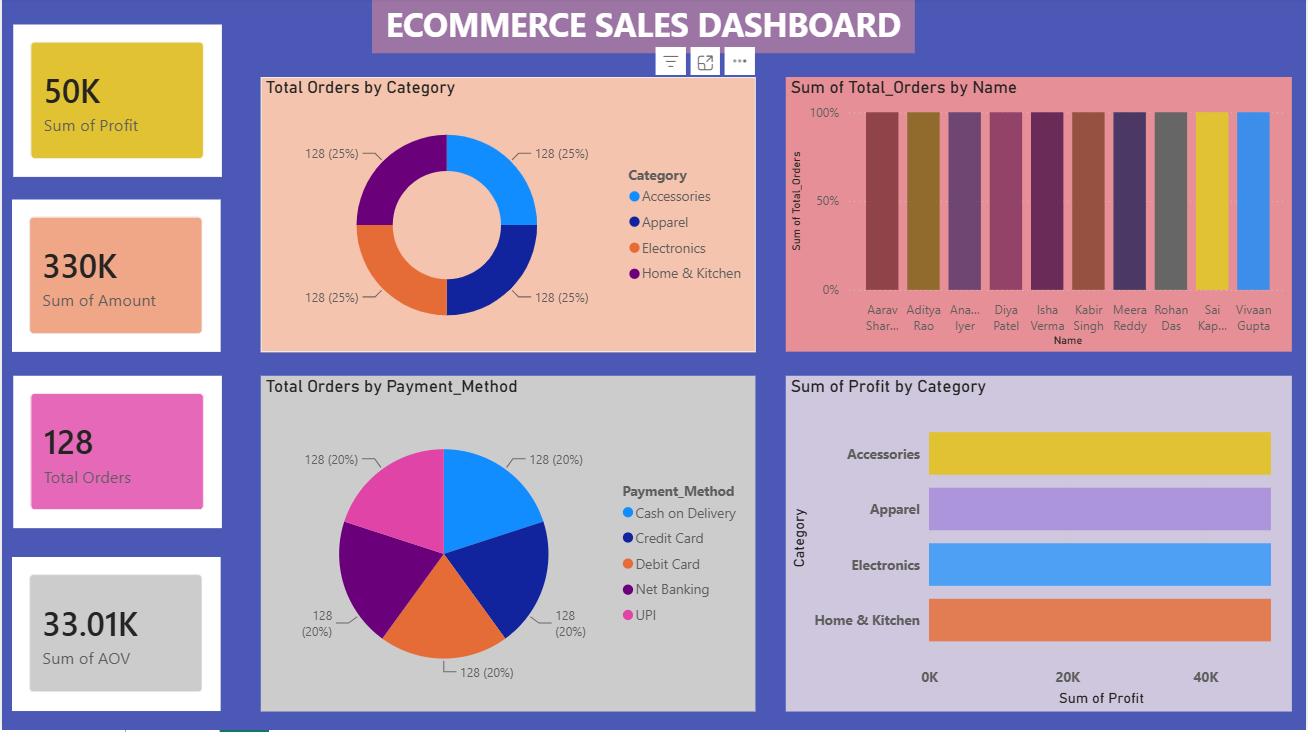

What the dashboard file says about the page in this screenshot:
{"tool":"powerbi","page":{"name":"Page 1","canvas":[1280,720],"ordinal":0},"visuals":[{"type":"textbox","box":[363.6,0,532.4,54.9],"z":0},{"type":"cardVisual","fields":{"Data":["Analytics.Sum of Profit"]},"box":[11,27.4,204.5,149.6],"z":1000},{"type":"cardVisual","fields":{"Data":["Analytics.Sum of Amount"]},"box":[9.6,199,204.5,149.6],"z":2000},{"type":"cardVisual","fields":{"Data":["Analytics.Sum of Quantity"]},"box":[11,371.9,204.5,149.6],"z":3000},{"type":"cardVisual","fields":{"Data":["Analytics.Sum of AOV"]},"box":[9.6,550.3,204.5,150.9],"z":4000},{"type":"clusteredBarChart","fields":{"Category":["Product.Category"],"Y":["Analytics.Sum of Profit"]},"box":[769.8,371.9,496.7,329.3],"z":5000},{"type":"pieChart","fields":{"Category":["Payment.Payment_Method"],"Y":["Analytics.Sum of Quantity"]},"box":[253.9,371.9,485.8,329.3],"z":6000},{"type":"donutChart","fields":{"Category":["Product.Category"],"Y":["Analytics.Sum of Quantity"]},"box":[253.9,78.2,485.8,270.3],"z":7000},{"type":"hundredPercentStackedColumnChart","fields":{"Category":["User.Name"],"Y":["Sum(Analytics.Total_Orders)"]},"box":[769.3,78.5,496.9,269.9],"z":8000}]}

Visuals, with their boxes in screenshot pixels (x1, y1, x2, y2), scaled from the page's 1280x720 canvas onto the 1308x732 screenshot:
textbox: select_region(372, 0, 916, 56)
cardVisual - Analytics.Sum of Profit: select_region(11, 28, 220, 180)
cardVisual - Analytics.Sum of Amount: select_region(10, 202, 219, 354)
cardVisual - Analytics.Sum of Quantity: select_region(11, 378, 220, 530)
cardVisual - Analytics.Sum of AOV: select_region(10, 559, 219, 713)
clusteredBarChart - Product.Category x Analytics.Sum of Profit: select_region(787, 378, 1294, 713)
pieChart - Payment.Payment_Method x Analytics.Sum of Quantity: select_region(259, 378, 756, 713)
donutChart - Product.Category x Analytics.Sum of Quantity: select_region(259, 80, 756, 354)
hundredPercentStackedColumnChart - User.Name x Sum(Analytics.Total_Orders): select_region(786, 80, 1294, 354)
